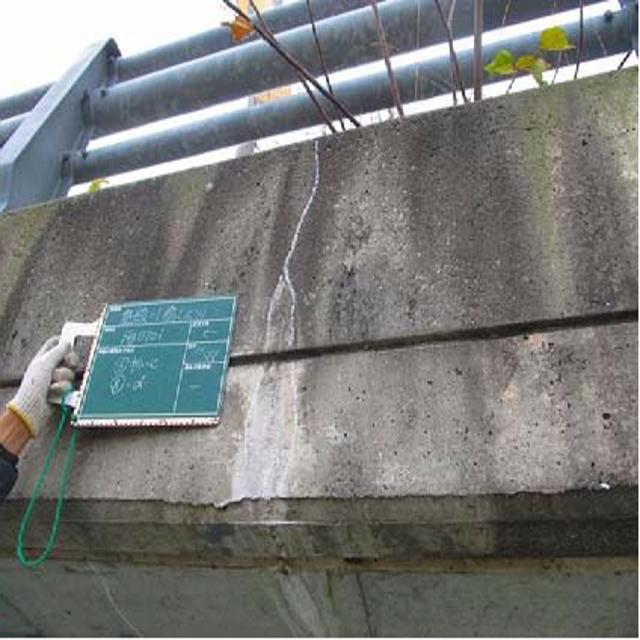freelime: (237, 272, 329, 504)
